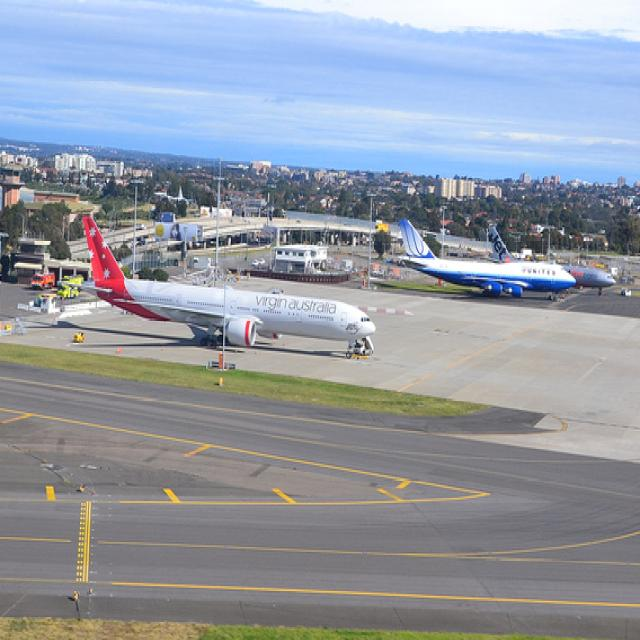Vehicle: (57, 284, 79, 298), (621, 288, 633, 296)
